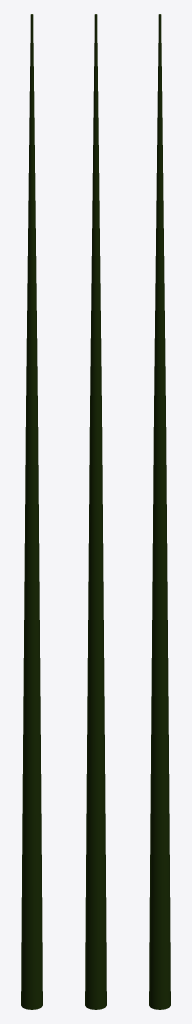
Rendered from Vine_BlendShape.FBX.
The picture shows the model from 3 angles, left to right: view 1: azimuth 30°, elevation 25°; view 2: azimuth 210°, elevation 25°; view 3: azimuth 330°, elevation 25°; orthographic projection.
Parts seen in each view (by area): view 1: Vine; view 2: Vine; view 3: Vine.
Boxes of the visible parts, box(x1,y1,x2,y2) form: Vine: box(21, 14, 42, 1009); Vine: box(85, 14, 106, 1009); Vine: box(149, 14, 170, 1009).
Size of the model in its own units: 14.93 by 747 by 14.93.
